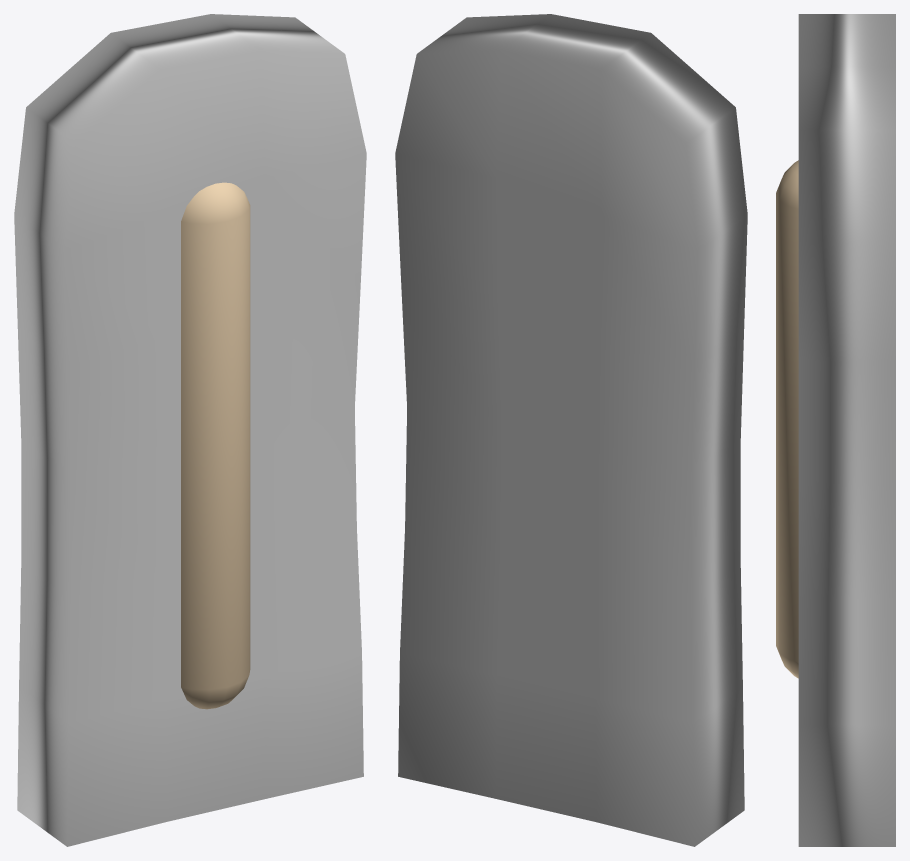
File: thermometer.glb
3 views of the same model, side by side, from view 1: azimuth 30°, elevation 25°; view 2: azimuth 150°, elevation 25°; view 3: azimuth 270°, elevation 25° (orthographic). The views are drawn at different scales.
Parts seen in each view (by area): view 1: ThermometerBody, ThermometerGlassTube; view 2: ThermometerBody; view 3: ThermometerBody, ThermometerGlassTube.
Part boxes in pixels (x1=…): ThermometerBody: x1=14, y1=14, x2=366, y2=846; ThermometerGlassTube: x1=181, y1=182, x2=250, y2=709; ThermometerBody: x1=395, y1=14, x2=747, y2=846; ThermometerBody: x1=798, y1=14, x2=895, y2=846; ThermometerGlassTube: x1=776, y1=160, x2=798, y2=678.
Size of the model in its own units: 3.36 by 8.02 by 1.18.
